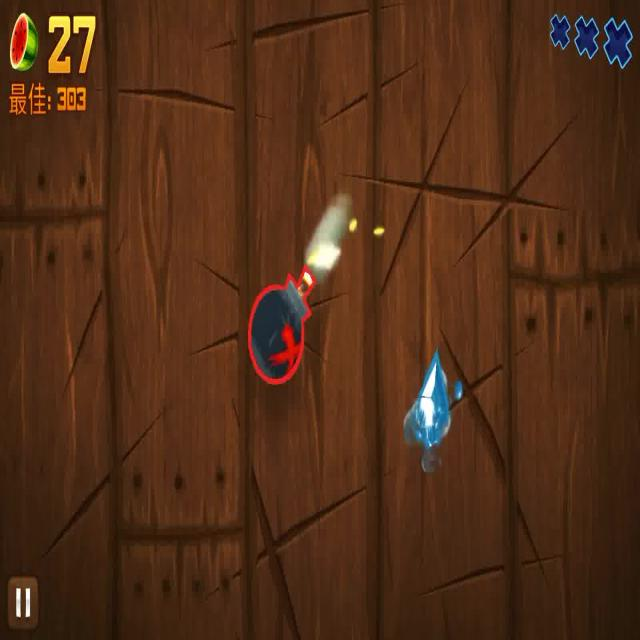bomb: (242, 260, 321, 386)
